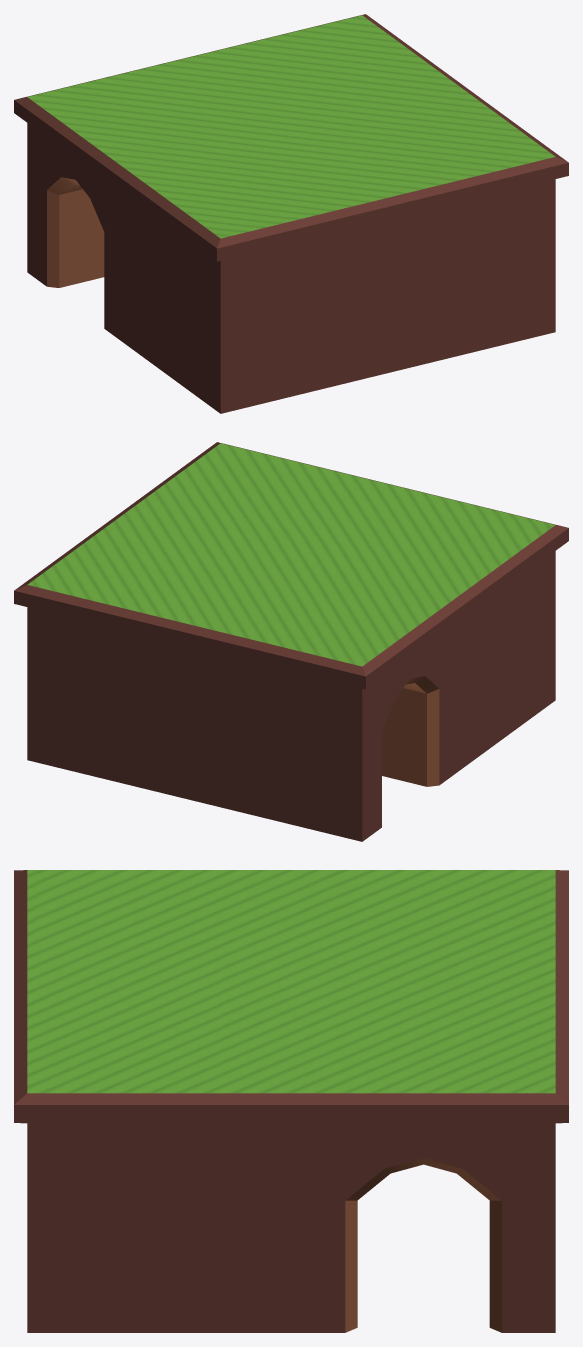
The model's file is Ground.fbx.
3 views of the same model, one above another, from view 1: azimuth 30°, elevation 25°; view 2: azimuth 150°, elevation 25°; view 3: azimuth 270°, elevation 25° (orthographic). The views are drawn at different scales.
Parts seen in each view (by area): view 1: Ground_4; view 2: Ground_4; view 3: Ground_4.
Part boxes in pixels (left/top/right/bottom): Ground_4: left=14, top=14, right=568, bottom=413; Ground_4: left=14, top=442, right=568, bottom=841; Ground_4: left=14, top=870, right=568, bottom=1332.
Bounding box in the file's own units: 4.2 × 2 × 4.2.
